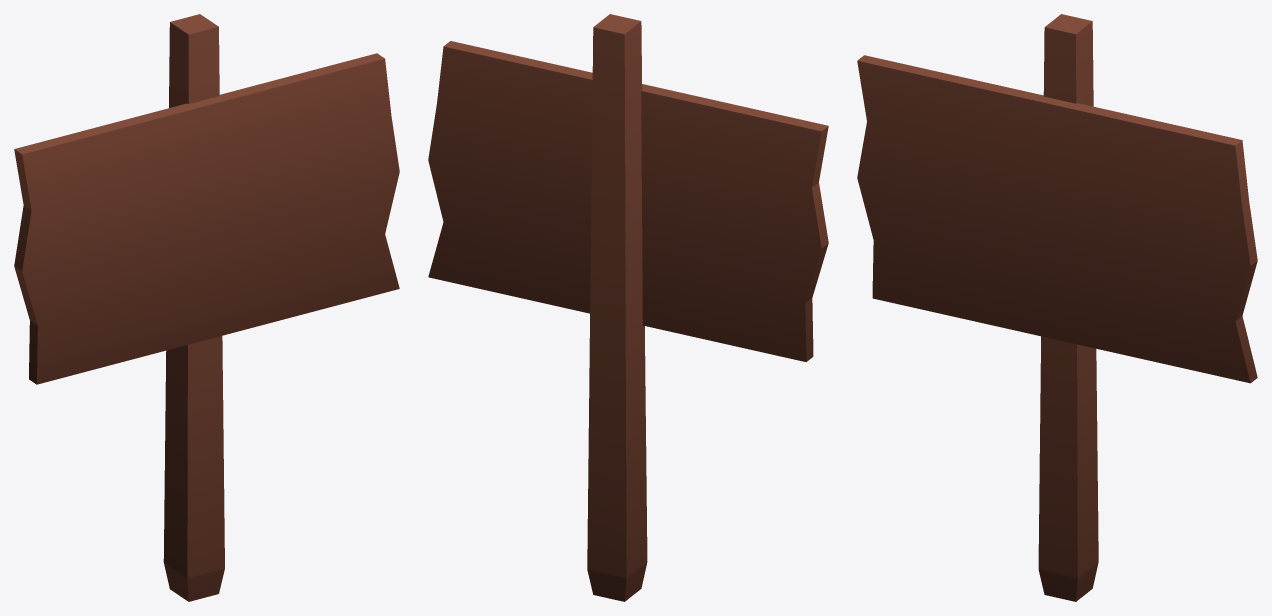
The model's file is farmpack2023sign01.fbx.
3 views of the same model, side by side, from view 1: azimuth 30°, elevation 25°; view 2: azimuth 150°, elevation 25°; view 3: azimuth 330°, elevation 25° (orthographic).
Visible parts, largest first — view 1: Plane.012; view 2: Plane.012; view 3: Plane.012.
Part boxes in pixels (x1=…): Plane.012: x1=14, y1=14, x2=399, y2=601; Plane.012: x1=428, y1=14, x2=828, y2=601; Plane.012: x1=857, y1=14, x2=1257, y2=601.
Bounding box in the file's own units: 0.1971 × 1.42 × 1.99.
